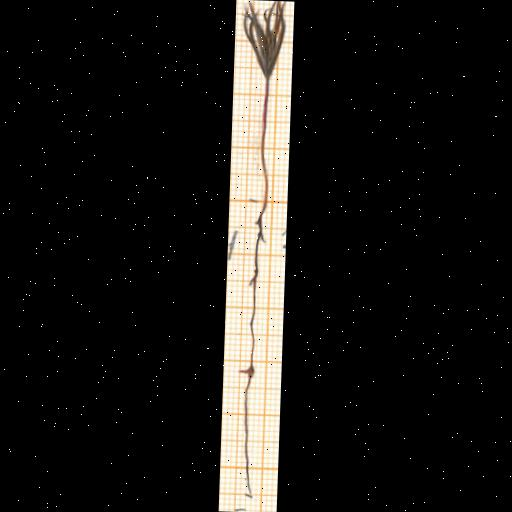flowerPinus: (243, 0, 286, 79)
rootPinus: (242, 207, 266, 496)
stemPinus: (259, 77, 269, 205)
